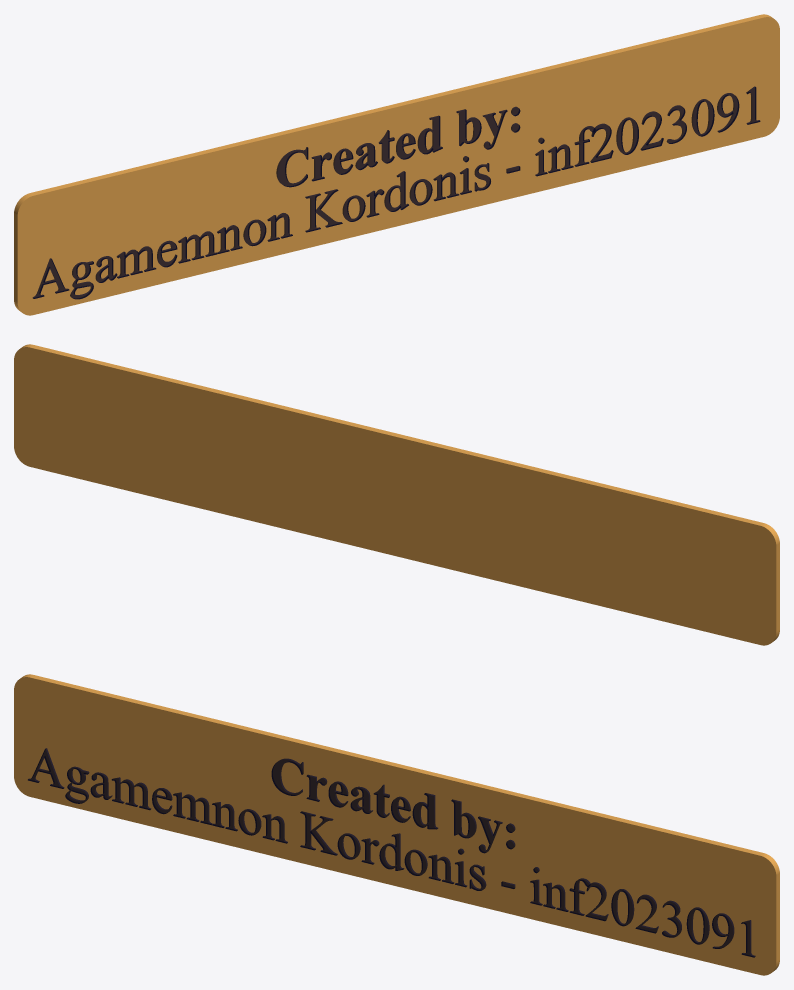
The model's file is credit.glb.
The picture shows the model from 3 angles, top to bottom: view 1: azimuth 30°, elevation 25°; view 2: azimuth 150°, elevation 25°; view 3: azimuth 330°, elevation 25°; orthographic projection.
Visible parts, largest first — view 1: Cube, Text; view 2: Cube; view 3: Cube, Text.
Boxes of the visible parts, x1,y1,x2,y2 form: Cube: (14,14,779,315); Text: (32,86,760,299); Cube: (14,344,779,645); Cube: (14,674,779,975); Text: (28,748,755,957).
Bounding box in the file's own units: 14.42 × 2.16 × 0.161.
